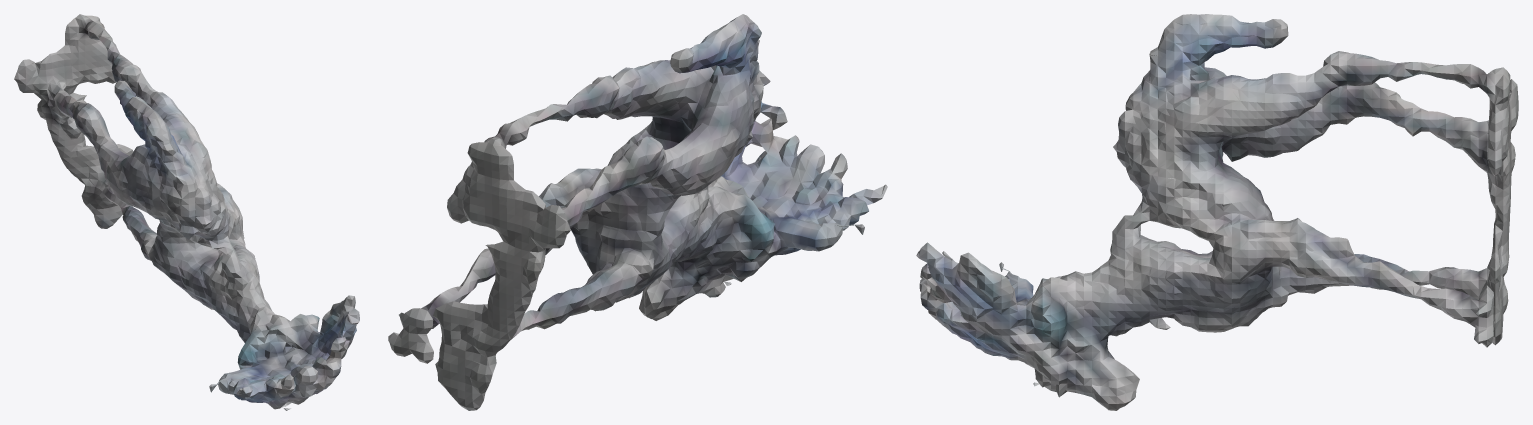
The model's file is evowild-s-triposr-3q.glb.
The picture shows the model from 3 angles, left to right: view 1: azimuth 30°, elevation 25°; view 2: azimuth 150°, elevation 25°; view 3: azimuth 270°, elevation 25°; orthographic projection. The views are drawn at different scales.
Parts seen in each view (by area): view 1: world; view 2: world; view 3: world.
Part boxes in pixels (x1,y1,x2,y2): world: [14, 14, 359, 410]; world: [388, 14, 887, 410]; world: [916, 14, 1518, 410].
Bounding box in the file's own units: 0.3978 × 0.6245 × 1.
